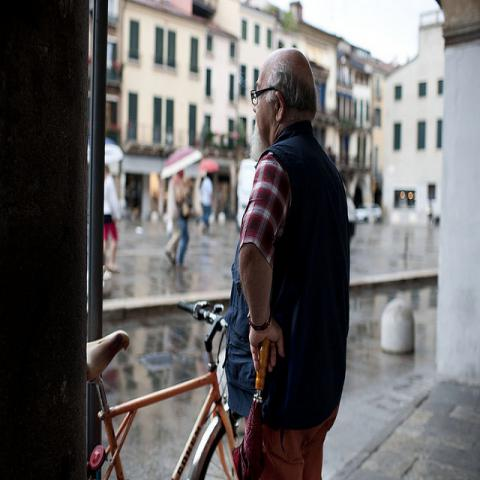car: (343, 183, 359, 236), (354, 200, 384, 224)
